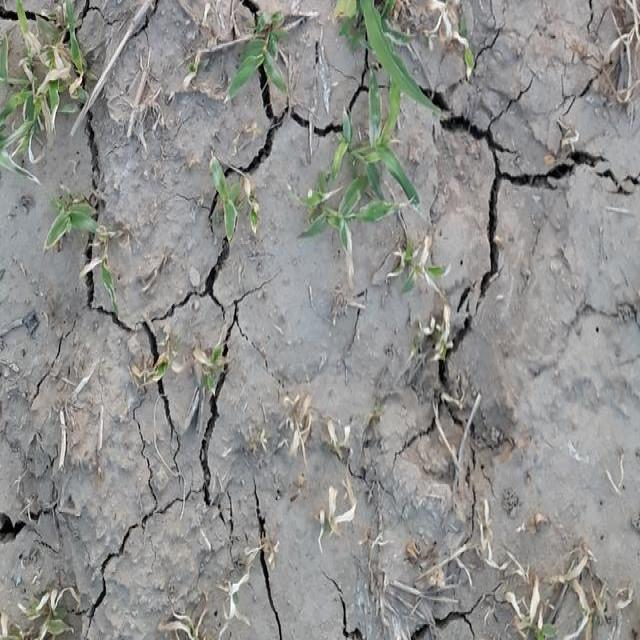weed: (314, 0, 416, 274), (206, 0, 297, 128)
